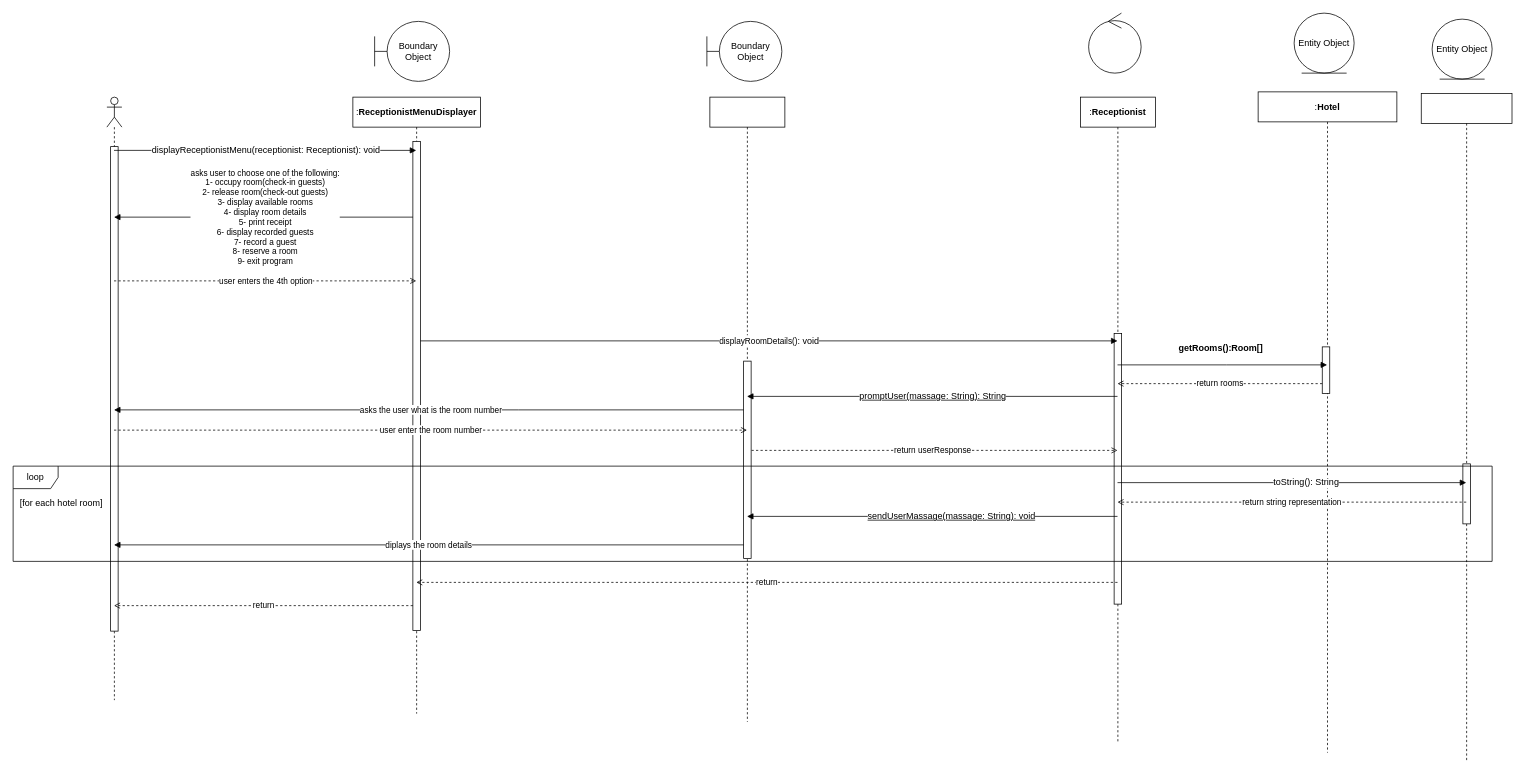
The diagram is 1526 pixels wide and 774 high, and some of its shapes have lost their labels. The shapes that lost their labels are listed below. From the top down, each one's box as (x1, y1, x2, y2) in pixels, then its label:
(1088, 12, 1141, 73): Control Object
(106, 96, 122, 700): receptionist
(709, 96, 785, 722): : Communicator
(1420, 93, 1512, 761): :Room
